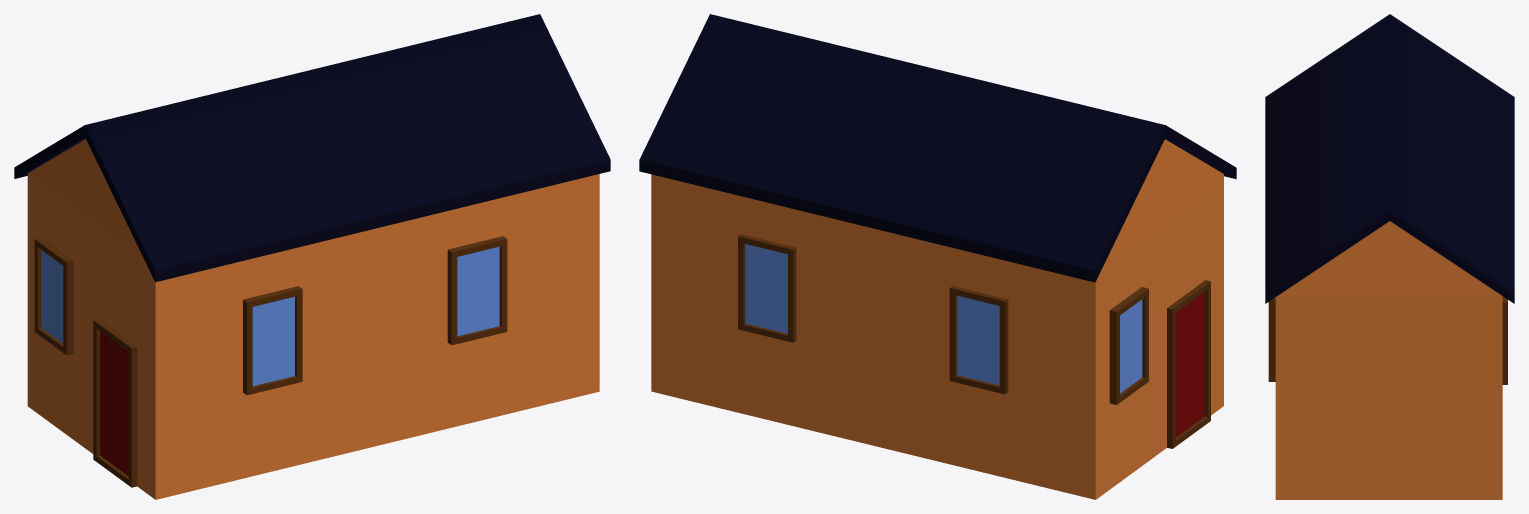
Rendered from Haus_2.fbx.
The picture shows the model from 3 angles, left to right: view 1: azimuth 30°, elevation 25°; view 2: azimuth 150°, elevation 25°; view 3: azimuth 270°, elevation 25°; orthographic projection. The views are drawn at different scales.
Parts seen in each view (by area): view 1: Object003, Object004, Dach001, Dach002, Wand001, Dachwand001, Tür003, Fenster004, Fenster006, Tür002, Fensterrahmen006, Fensterrahmen004 (+2 smaller); view 2: Object002, Object001, Dach001, Dach002, Wand001, Dachwand001, Tür003, Fenster005, Fenster007, Tür002, Fensterrahmen005, Fensterrahmen007 (+2 smaller); view 3: Wand002, Dach002, Dach001, Dachwand_003, Fensterrahmen006, Fensterrahmen007.
Part boxes in pixels (bbox=[...]): Object003: bbox=[377, 174, 599, 445]; Object004: bbox=[155, 228, 377, 499]; Dach001: bbox=[14, 69, 385, 282]; Dach002: bbox=[315, 14, 610, 225]; Wand001: bbox=[27, 174, 155, 499]; Dachwand001: bbox=[28, 139, 143, 258]; Tür003: bbox=[100, 331, 128, 475]; Fenster004: bbox=[252, 296, 294, 386]; Fenster006: bbox=[457, 246, 499, 336]; Tür002: bbox=[93, 319, 137, 487]; Fensterrahmen006: bbox=[447, 236, 507, 345]; Fensterrahmen004: bbox=[243, 286, 302, 395]; Object002: bbox=[651, 174, 873, 445]; Object001: bbox=[873, 228, 1095, 499]; Dach001: bbox=[864, 69, 1236, 282]; Dach002: bbox=[639, 14, 934, 227]; Wand001: bbox=[1095, 174, 1223, 499]; Dachwand001: bbox=[1107, 139, 1223, 258]; Tür003: bbox=[1175, 292, 1204, 437]; Fenster005: bbox=[957, 295, 999, 385]; Fenster007: bbox=[745, 244, 787, 333]; Tür002: bbox=[1167, 280, 1210, 448]; Fensterrahmen005: bbox=[949, 286, 1008, 394]; Fensterrahmen007: bbox=[738, 234, 796, 342]; Wand002: bbox=[1275, 294, 1502, 499]; Dach002: bbox=[1265, 111, 1514, 303]; Dach001: bbox=[1265, 14, 1514, 196]; Dachwand_003: bbox=[1280, 221, 1499, 294]; Fensterrahmen006: bbox=[1268, 297, 1275, 381]; Fensterrahmen007: bbox=[1502, 296, 1507, 384].
Bounding box in the file's own units: 411 × 283 × 220.
